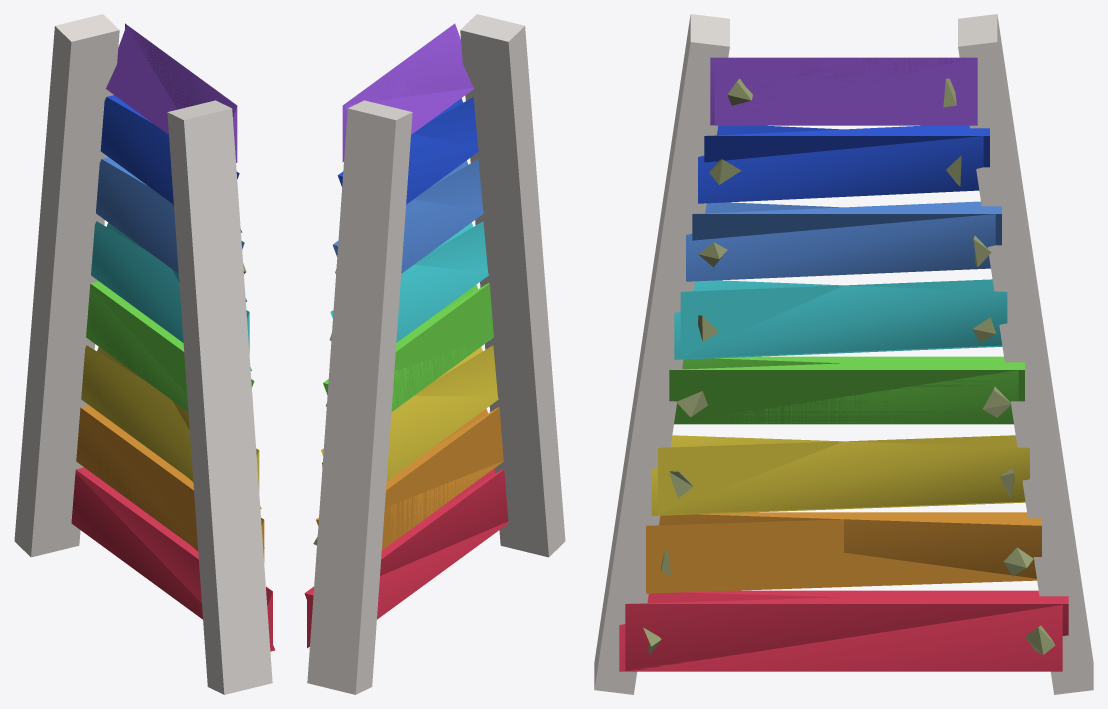
File: xylophone2_LOD2.fbx
3 views of the same model, side by side, from view 1: azimuth 30°, elevation 25°; view 2: azimuth 150°, elevation 25°; view 3: azimuth 270°, elevation 25° (orthographic). The views are drawn at different scales.
Parts seen in each view (by area): view 1: Cube; view 2: Cube; view 3: Cube.
Part boxes in pixels (x1,y1,x2,y2): Cube: (14,14,274,694); Cube: (304,14,565,694); Cube: (594,14,1093,694).
Bounding box in the file's own units: 159 × 1167 × 809.
